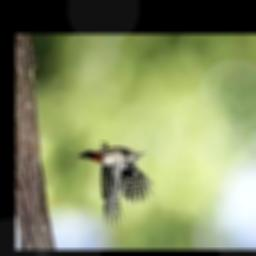Woodpecker: (79, 142, 155, 230)
